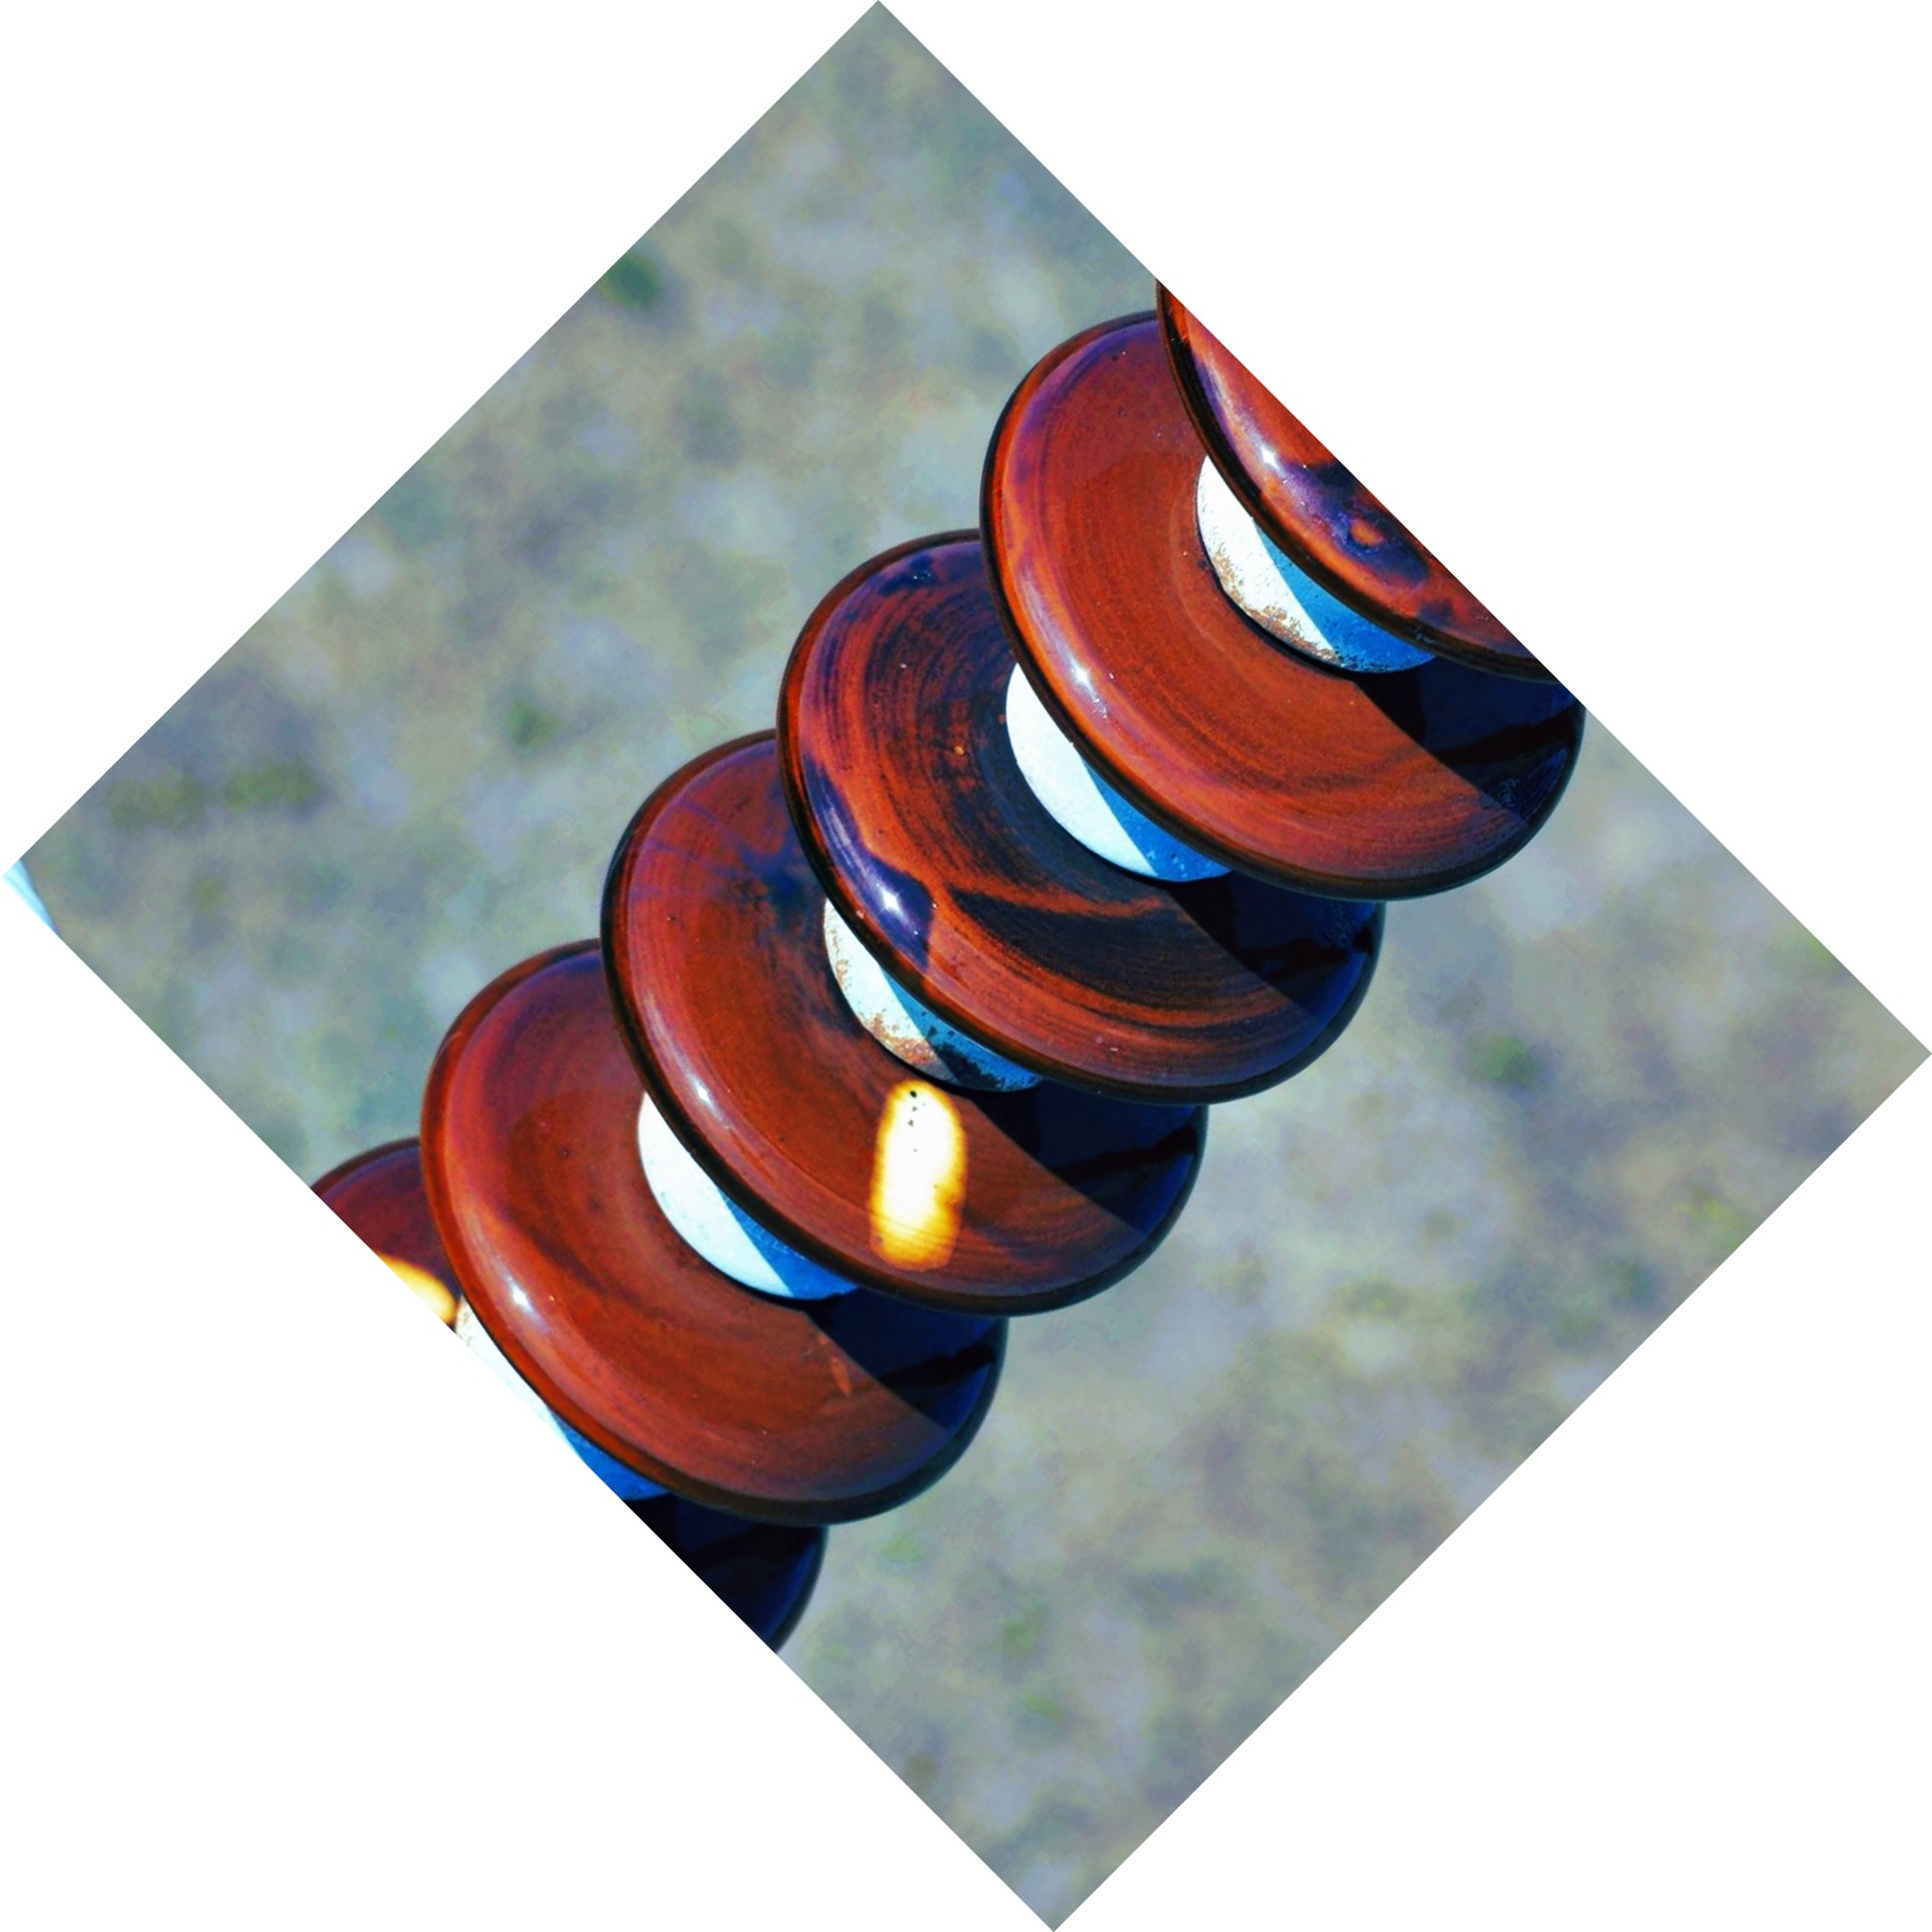Insulator flashover: (580, 722, 1207, 1327)
